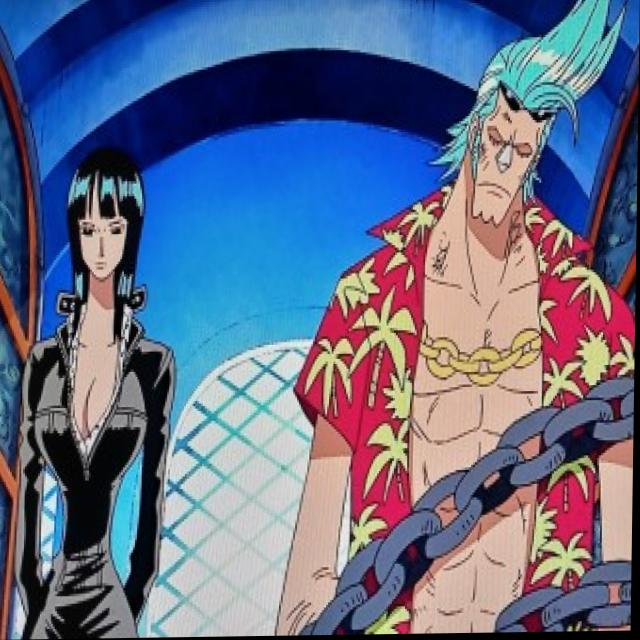Franky: (424, 0, 640, 244)
NicoRobin: (50, 137, 153, 332)
